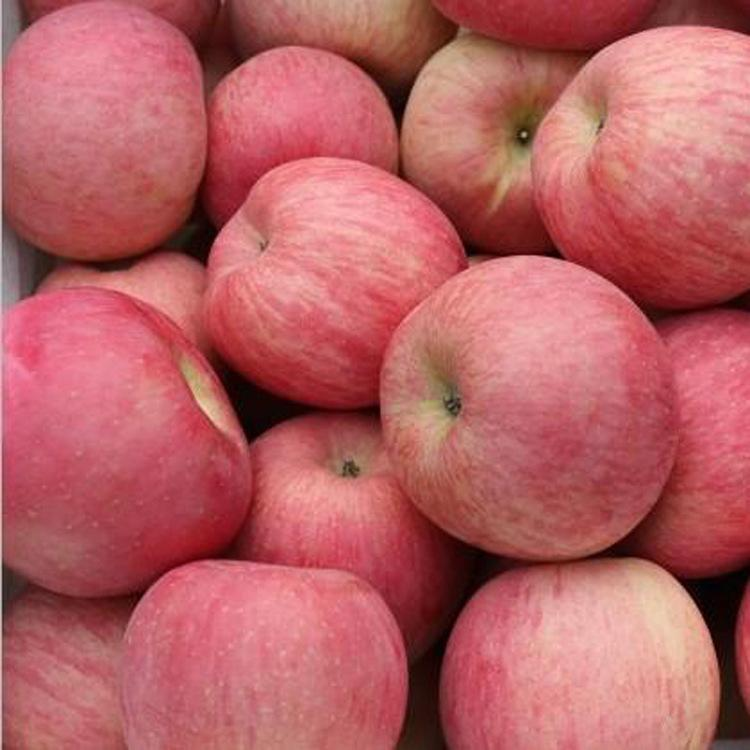apple: (374, 250, 685, 564), (1, 293, 248, 614), (190, 155, 457, 414), (537, 22, 749, 309), (435, 556, 722, 750), (116, 563, 410, 750), (4, 1, 208, 265), (397, 28, 585, 251), (198, 42, 399, 231)
